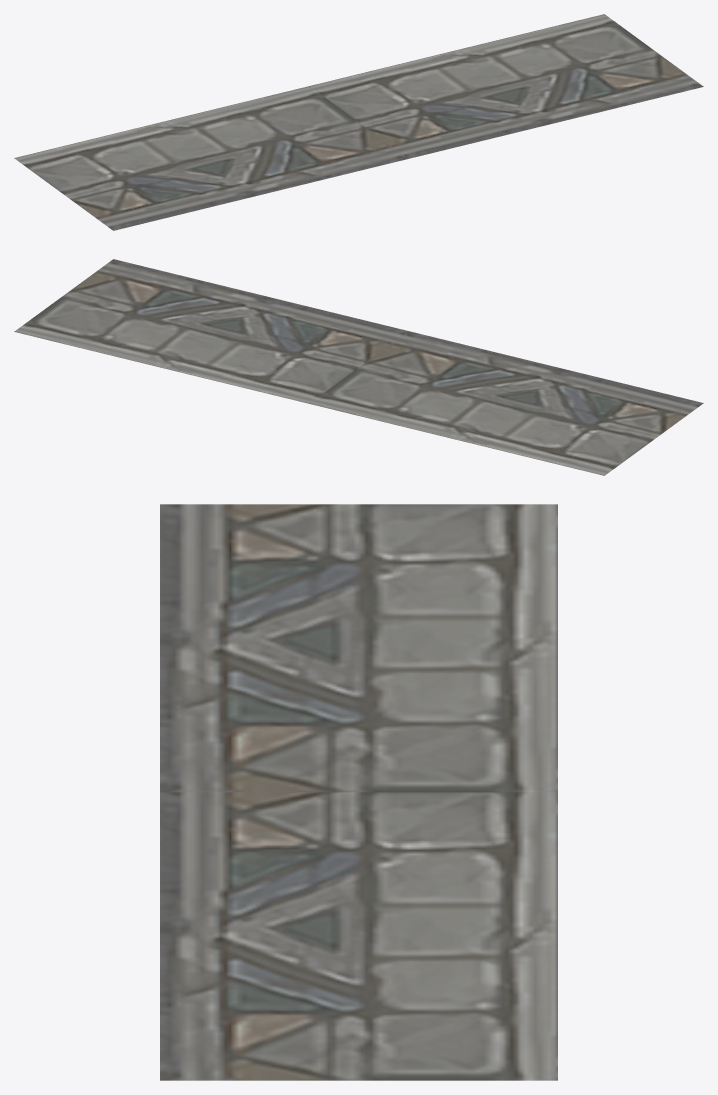
File: unity_dungeon_tile03.FBX
The picture shows the model from 3 angles, top to bottom: view 1: azimuth 30°, elevation 25°; view 2: azimuth 150°, elevation 25°; view 3: azimuth 270°, elevation 25°; orthographic projection. The views are drawn at different scales.
Parts seen in each view (by area): view 1: unity_dungeon_tile03; view 2: unity_dungeon_tile03; view 3: unity_dungeon_tile03.
Part boxes in pixels (x1,y1,x2,y2): unity_dungeon_tile03: [14, 14, 703, 230]; unity_dungeon_tile03: [14, 259, 703, 475]; unity_dungeon_tile03: [160, 504, 557, 1080].
Size of the model in its own units: 7.84 by 2.38e-07 by 2.29.
